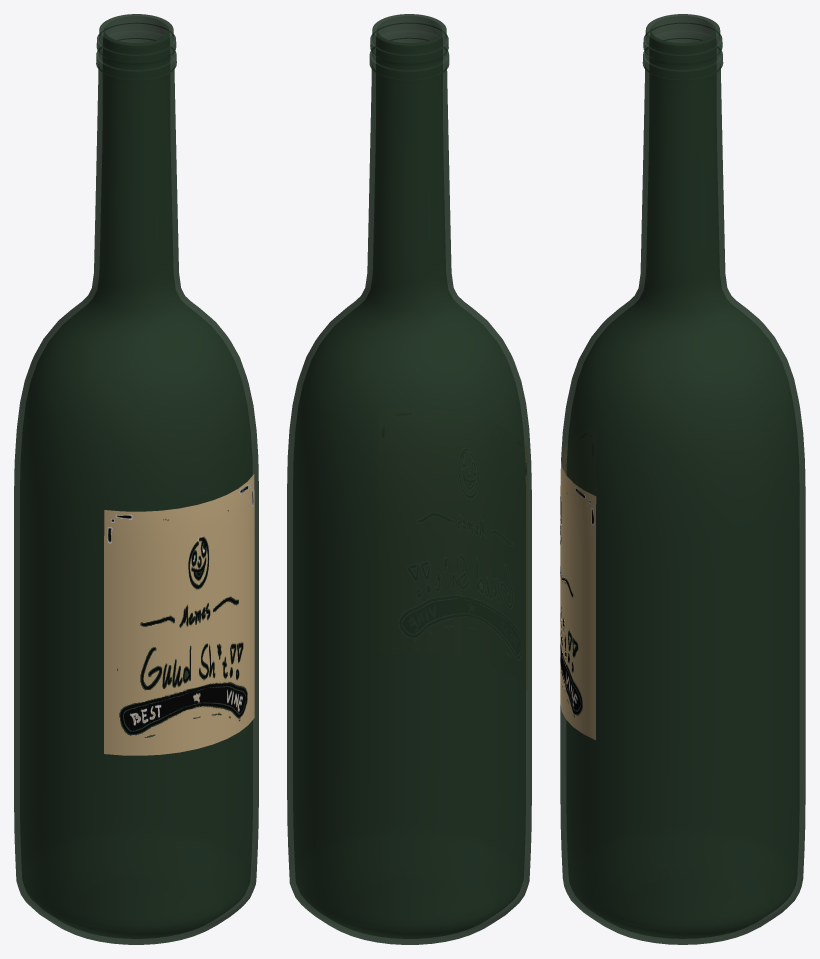
The model's file is maya2sketchfab.fbx.
3 renders of one model, left to right at view 1: azimuth 30°, elevation 25°; view 2: azimuth 150°, elevation 25°; view 3: azimuth 270°, elevation 25°, orthographic.
Parts seen in each view (by area): view 1: pCylinder1; view 2: pCylinder1; view 3: pCylinder1.
Boxes of the visible parts, x1,y1,x2,y2 form: pCylinder1: (14,14,258,944); pCylinder1: (287,14,531,944); pCylinder1: (560,14,805,944).
Bounding box in the file's own units: 2.08 × 8.22 × 2.08.
Materials: 2 (1 with a texture image).
